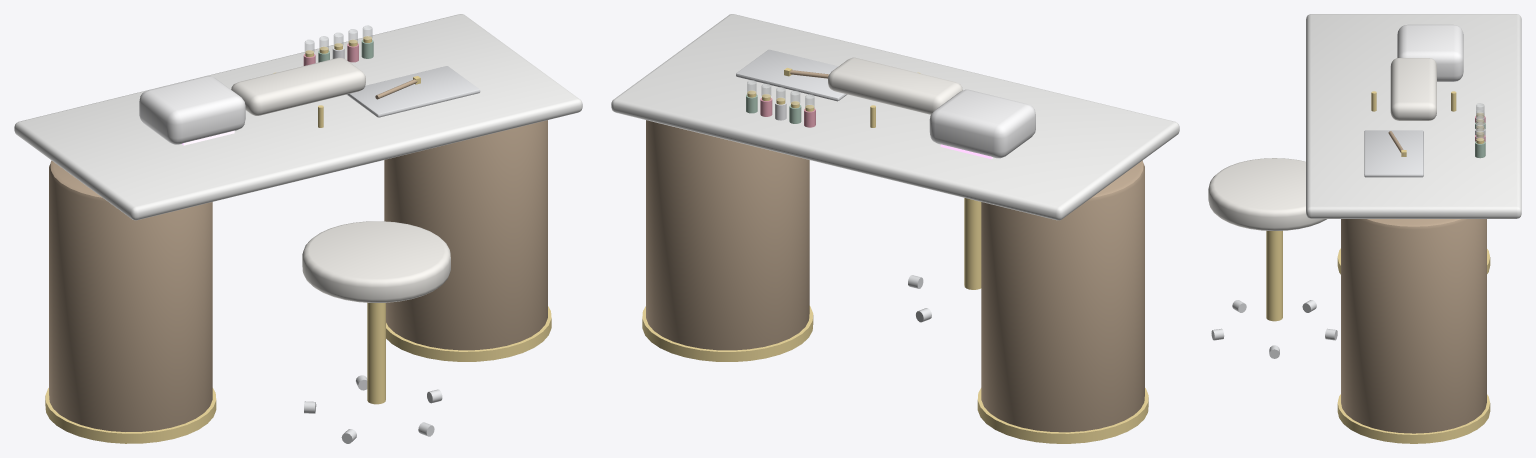
Rendered from manicure-station-deluxe.glb.
The picture shows the model from 3 angles, left to right: view 1: azimuth 30°, elevation 25°; view 2: azimuth 150°, elevation 25°; view 3: azimuth 270°, elevation 25°; orthographic projection. The views are drawn at different scales.
Parts seen in each view (by area): view 1: station_MarbleTop, station_BaseColumn_L, station_BaseColumn_R, station_StoolSeat, station_UVLamp_Hood, station_BoucleArmrest, station_ToolTray, station_BrassFootRing_L, station_BrassFootRing_R, station_StoolPiston; view 2: station_MarbleTop, station_BaseColumn_L, station_BaseColumn_R, station_UVLamp_Hood, station_BoucleArmrest, station_ToolTray, station_BrassFootRing_L, station_BrassFootRing_R, station_StoolPiston; view 3: station_MarbleTop, station_BaseColumn_R, station_StoolSeat, station_BoucleArmrest, station_UVLamp_Hood, station_ToolTray, station_BrassFootRing_R, station_StoolPiston.
Boxes of the visible parts, x1,y1,x2,y2 form: station_MarbleTop: (14, 14, 582, 220); station_BaseColumn_L: (49, 160, 212, 431); station_BaseColumn_R: (384, 120, 547, 350); station_StoolSeat: (302, 221, 450, 302); station_UVLamp_Hood: (139, 76, 245, 144); station_BoucleArmrest: (231, 57, 365, 115); station_ToolTray: (346, 66, 480, 117); station_BrassFootRing_L: (45, 388, 216, 443); station_BrassFootRing_R: (386, 306, 551, 361); station_StoolPiston: (367, 302, 385, 404); station_MarbleTop: (611, 14, 1179, 220); station_BaseColumn_L: (981, 160, 1144, 432); station_BaseColumn_R: (646, 120, 809, 350); station_UVLamp_Hood: (929, 89, 1035, 158); station_BoucleArmrest: (828, 57, 962, 114); station_ToolTray: (736, 49, 847, 101); station_BrassFootRing_L: (977, 388, 1148, 443); station_BrassFootRing_R: (642, 306, 813, 361); station_StoolPiston: (964, 198, 981, 289); station_MarbleTop: (1306, 14, 1521, 218); station_BaseColumn_R: (1341, 219, 1486, 433); station_StoolSeat: (1208, 158, 1326, 230); station_BoucleArmrest: (1390, 58, 1436, 120); station_UVLamp_Hood: (1397, 24, 1463, 81); station_ToolTray: (1364, 130, 1423, 177); station_BrassFootRing_R: (1337, 394, 1490, 443); station_StoolPiston: (1266, 231, 1282, 321).
Bounding box in the file's own units: 1.5 × 0.86 × 0.945.
